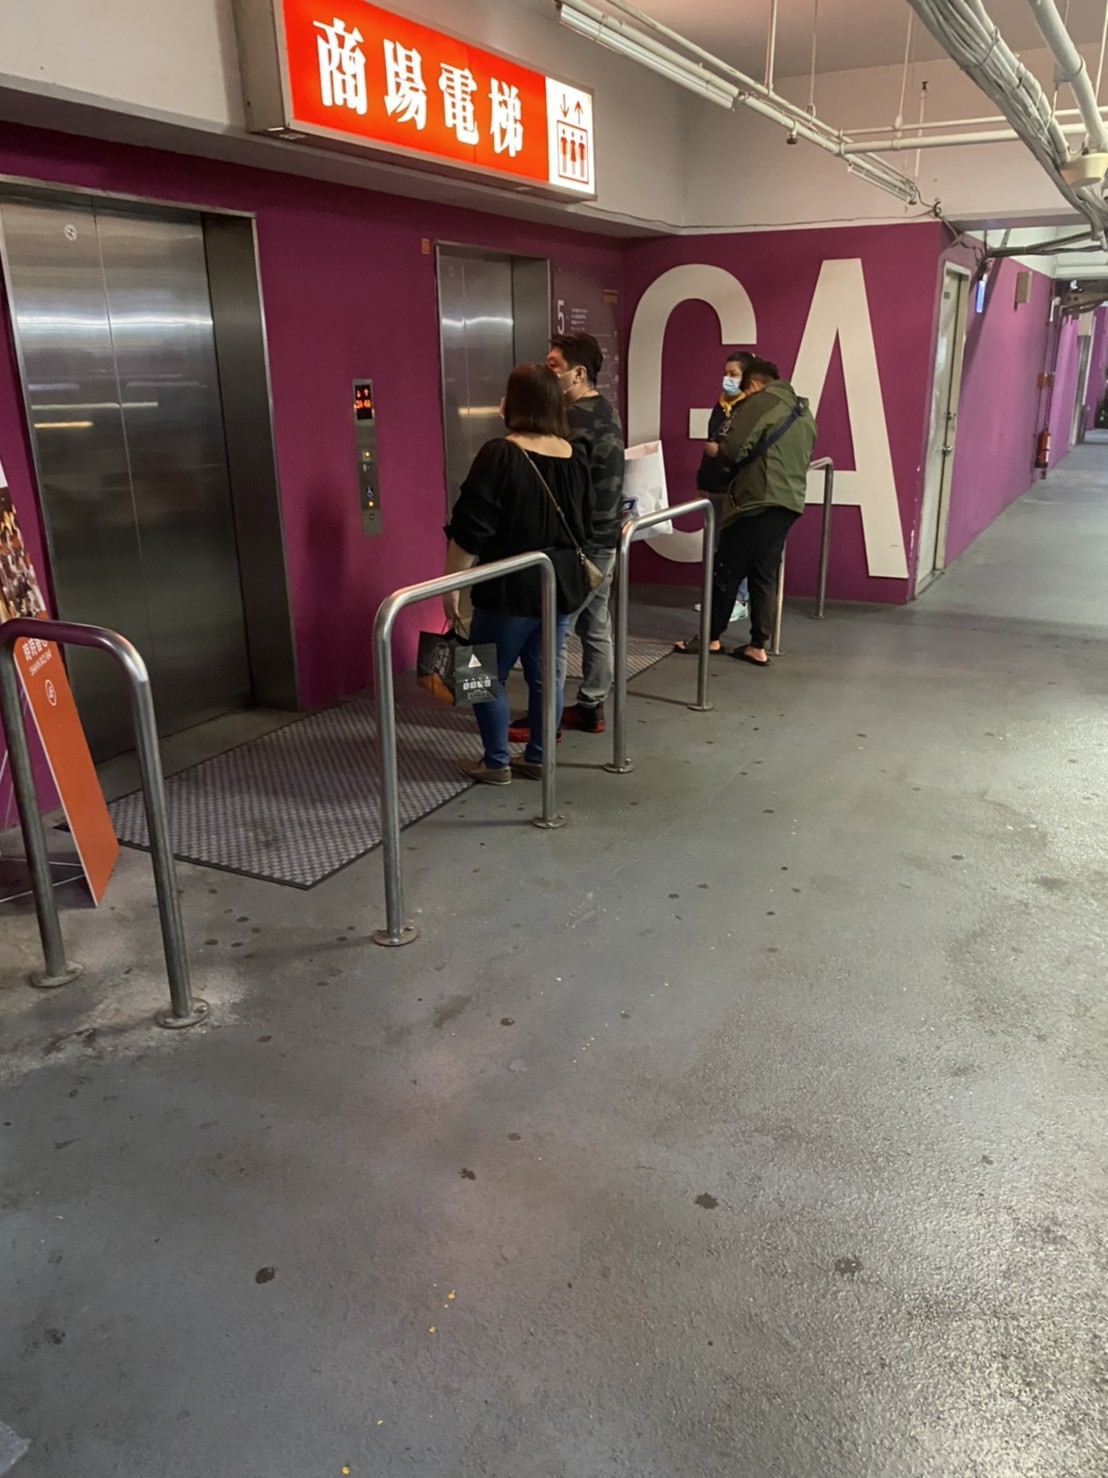people: (478, 359, 569, 781), (547, 335, 631, 752), (724, 359, 797, 673), (705, 350, 752, 612)
